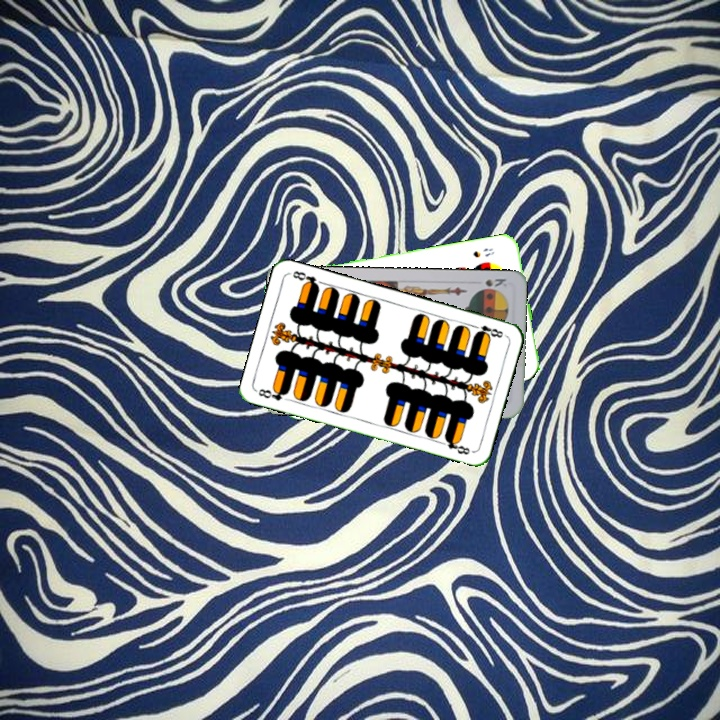E8: (254, 384, 294, 404), (468, 321, 508, 340)
S8: (469, 244, 497, 260)
SK: (474, 275, 509, 293)
